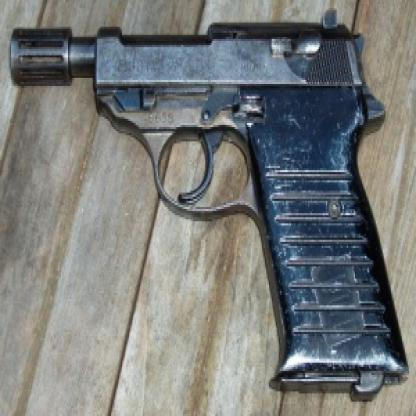Guns: (4, 8, 409, 398)
